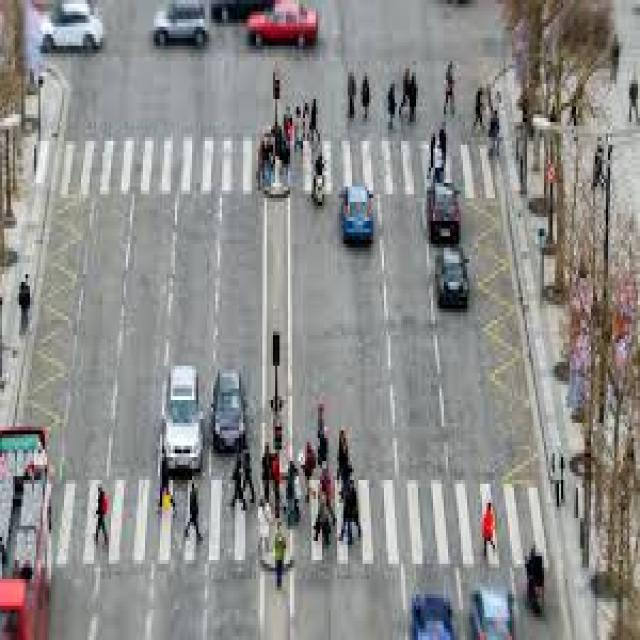Passenger Car: (162, 366, 205, 468), (40, 4, 104, 53), (247, 4, 320, 46), (152, 4, 214, 49), (213, 370, 246, 450), (433, 248, 472, 308), (342, 183, 376, 244)
Pedestrians: (183, 480, 205, 549), (476, 499, 499, 556), (92, 480, 109, 545)
